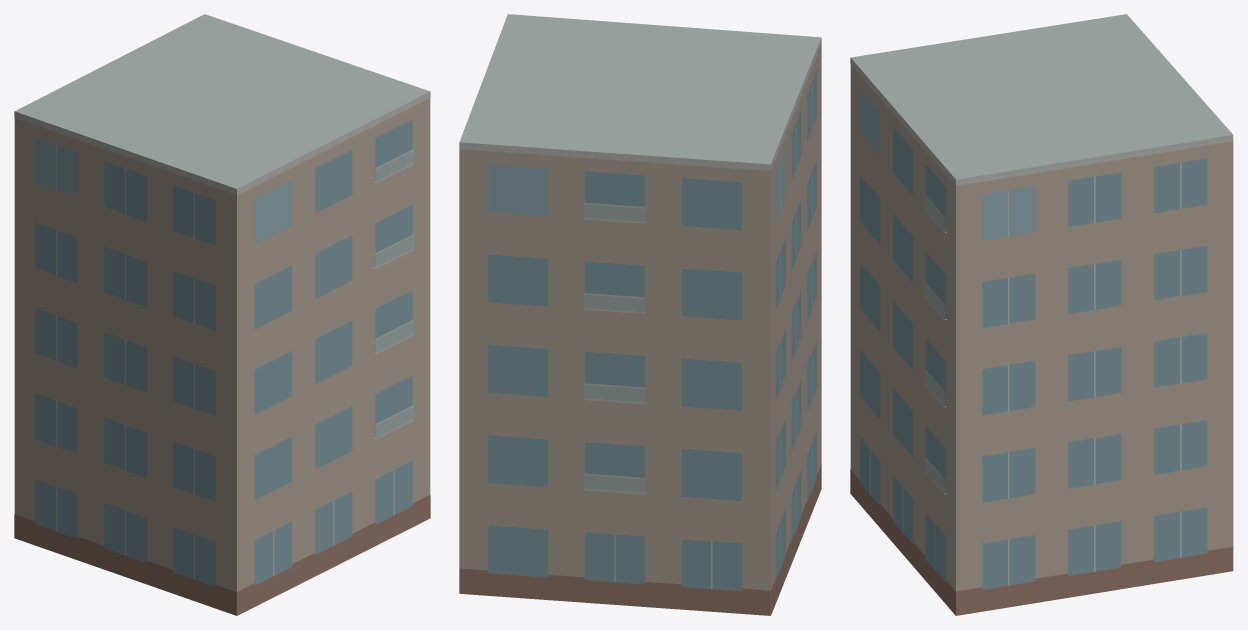
Rendered from survey-upis-32906318.glb.
3 renders of one model, left to right at view 1: azimuth 30°, elevation 25°; view 2: azimuth 150°, elevation 25°; view 3: azimuth 270°, elevation 25°, orthographic. The views are drawn at different scales.
Parts seen in each view (by area): view 1: survey-upis-32906318.tmp; view 2: survey-upis-32906318.tmp; view 3: survey-upis-32906318.tmp.
Part boxes in pixels (left/top/right/bottom): survey-upis-32906318.tmp: left=14, top=14, right=430, bottom=615; survey-upis-32906318.tmp: left=459, top=14, right=821, bottom=615; survey-upis-32906318.tmp: left=850, top=14, right=1233, bottom=615.
Size of the model in its own units: 13.33 by 16.35 by 13.01.
